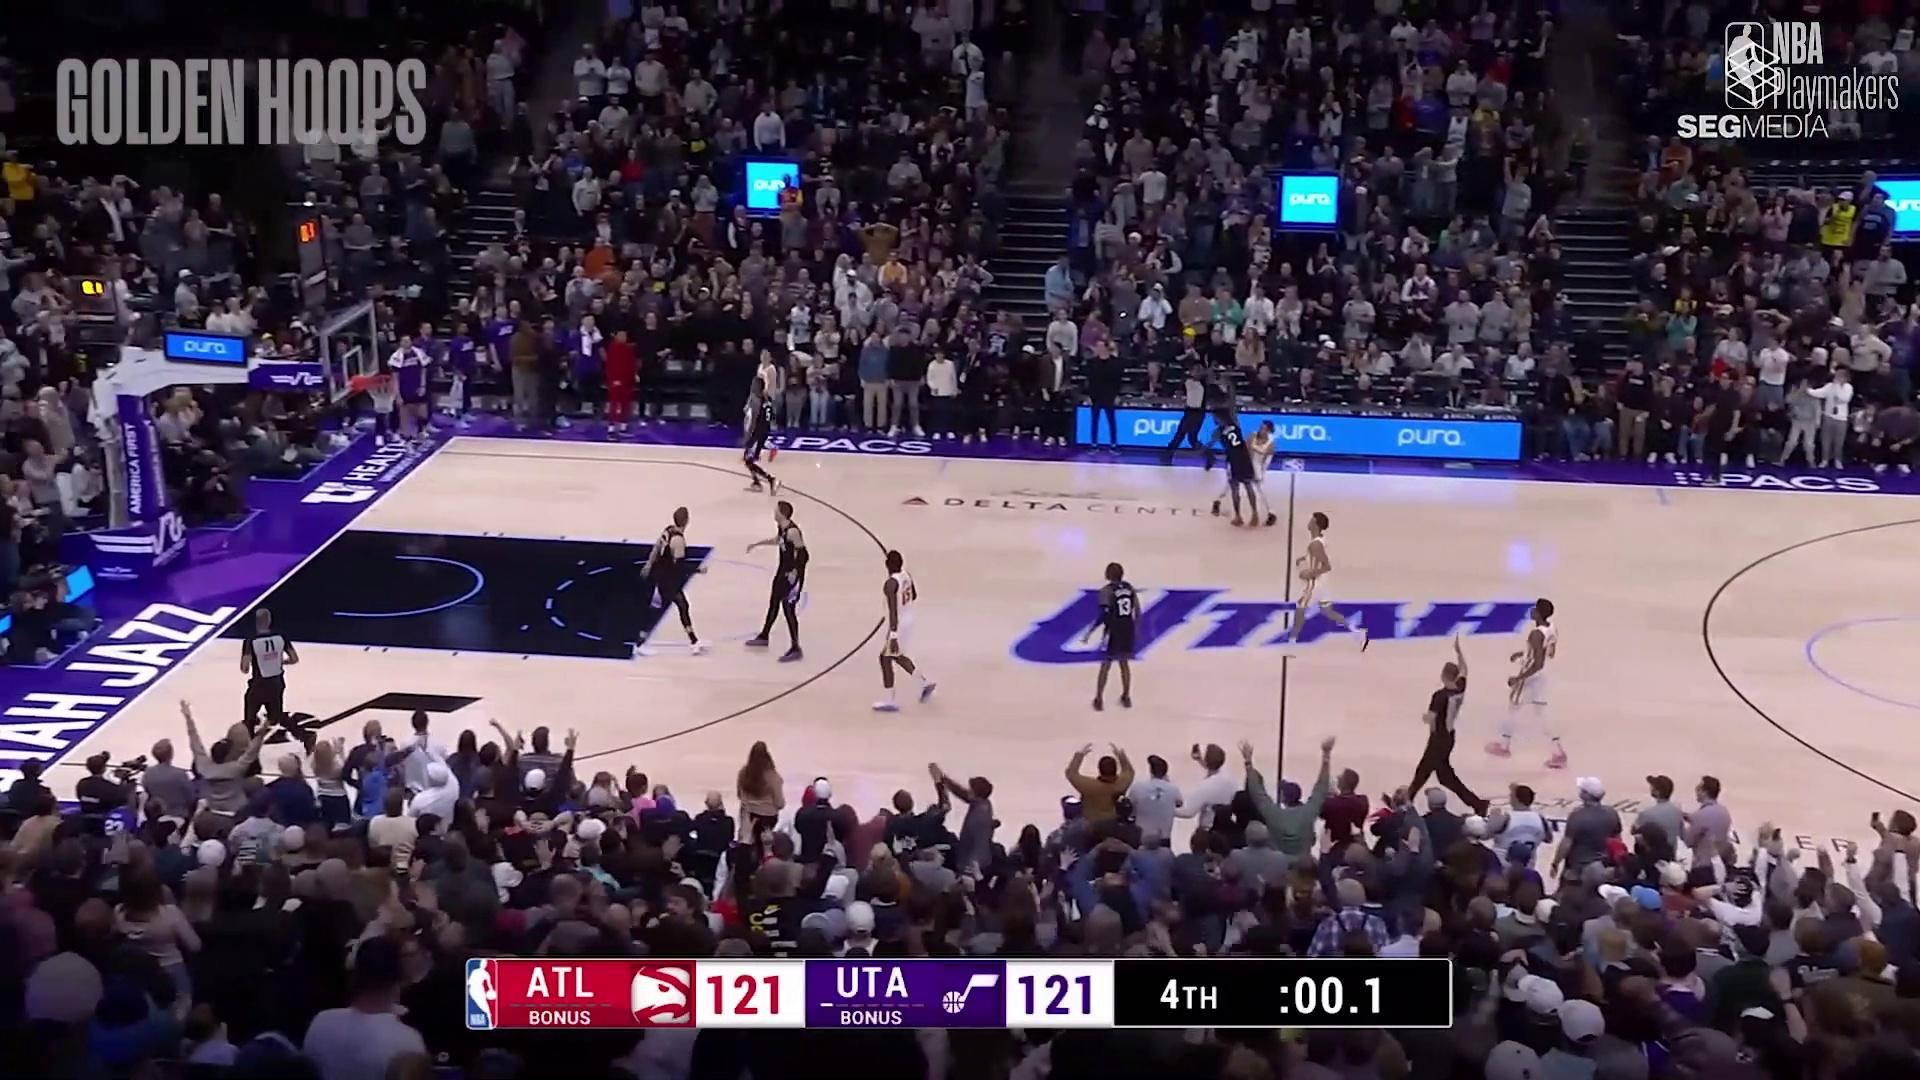hoop: (371, 360, 402, 418)
